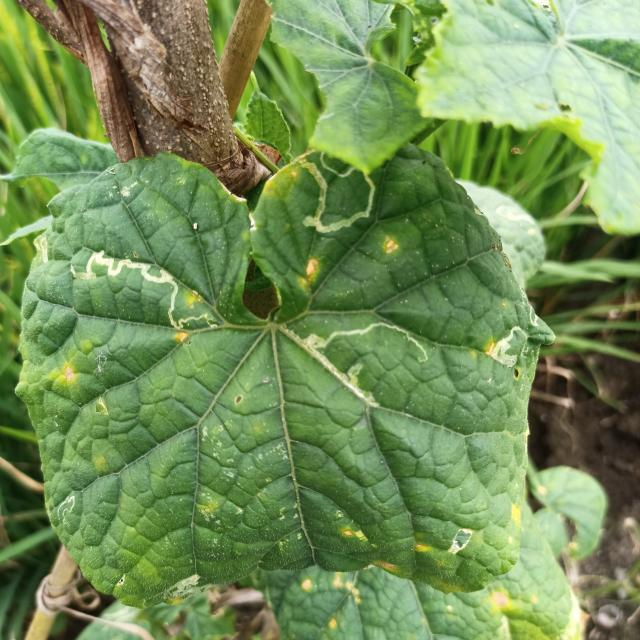disease_cucumber: (344, 524, 384, 550), (299, 258, 319, 290), (381, 236, 400, 258), (60, 362, 76, 386), (184, 293, 202, 311), (173, 330, 189, 344), (414, 542, 429, 556)
